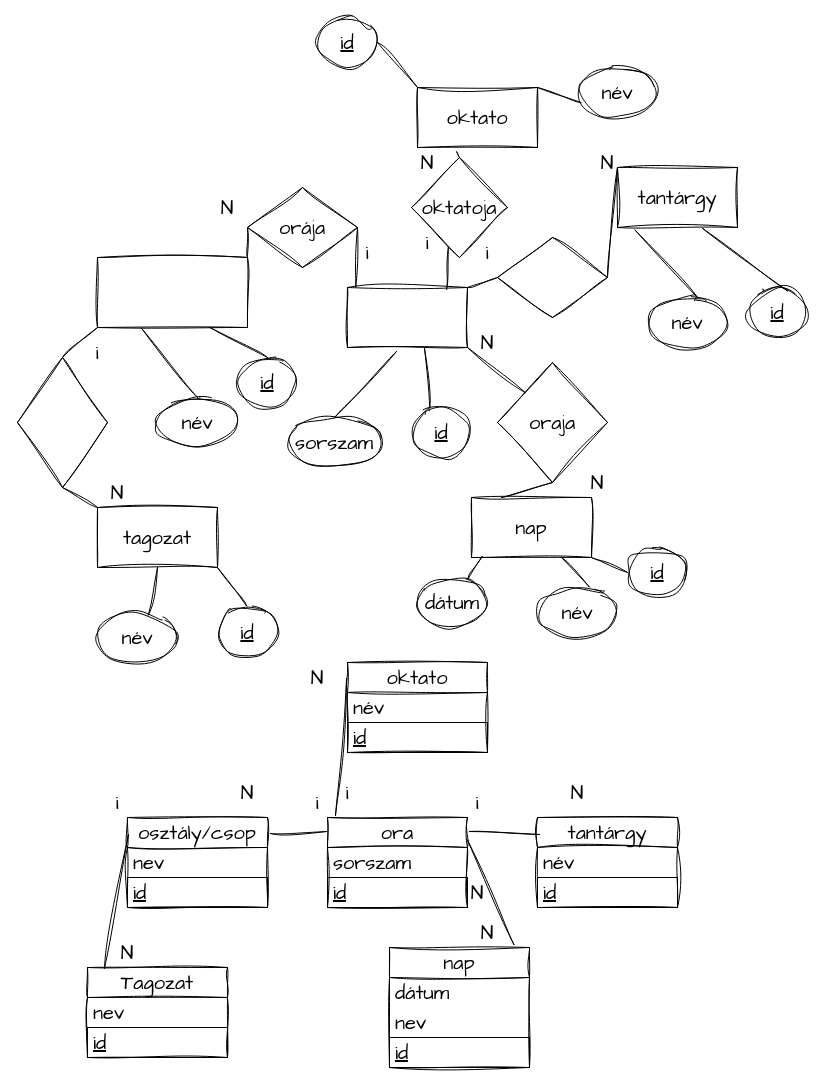
Some shapes in this 825 by 1085 pixel diagram are drawn without their labels. Each missing label, with the centre of its shape:
osztáy/csoport: point 172,292
tagozata: point 62,422
tantárgya: point 552,277
óra: point 407,317
